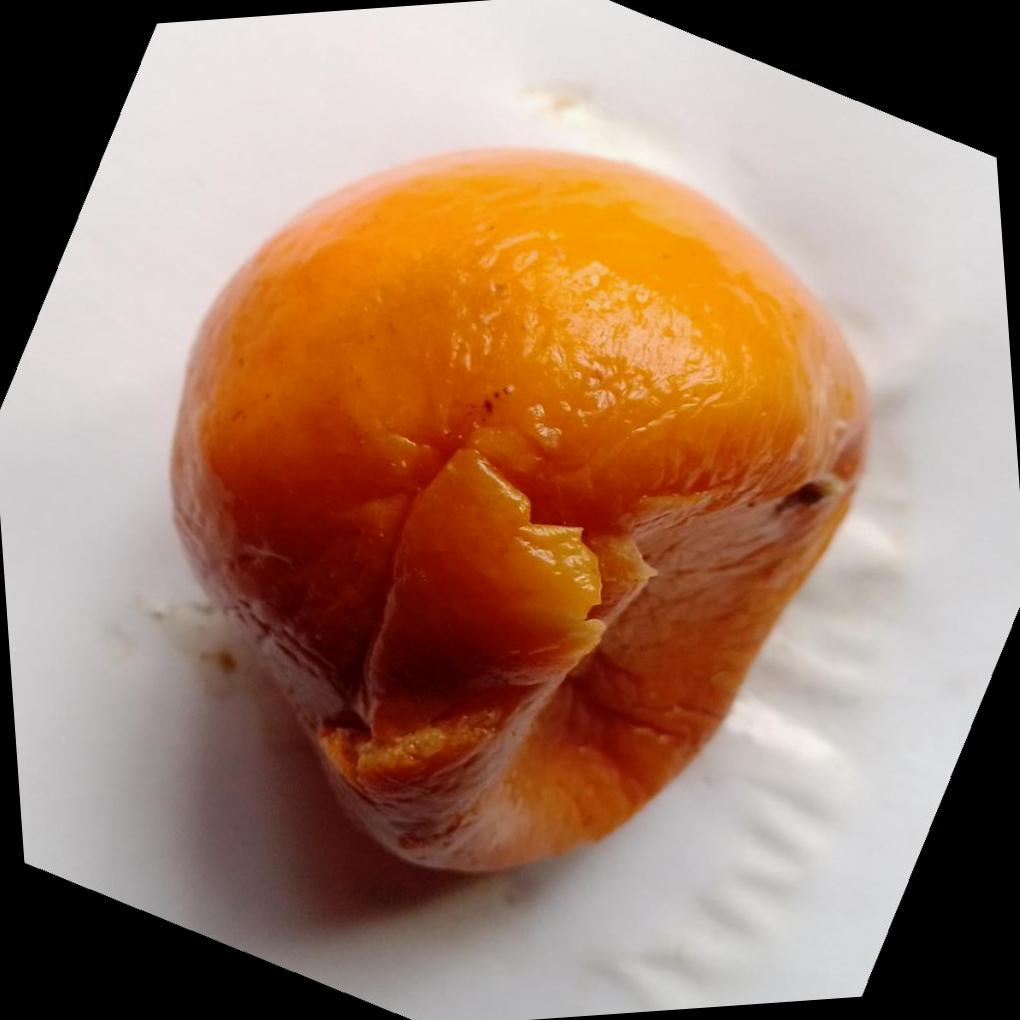FreshOrange: (153, 143, 872, 880)
